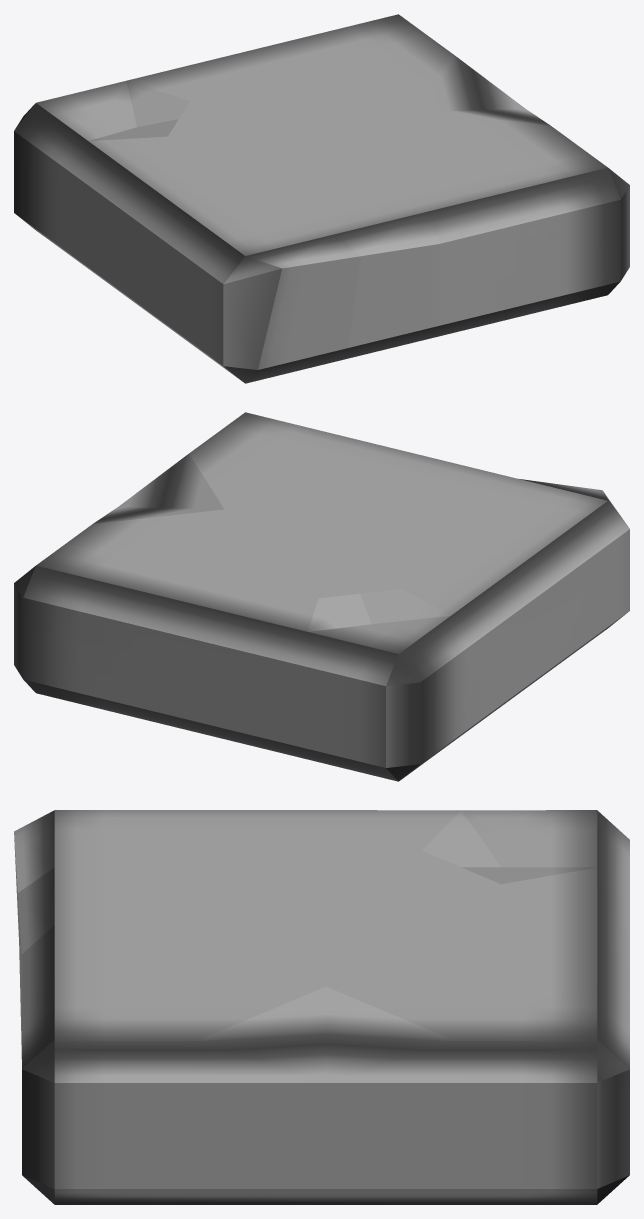
The model's file is SM_DungeonFloorPiece.fbx.
3 renders of one model, top to bottom at view 1: azimuth 30°, elevation 25°; view 2: azimuth 150°, elevation 25°; view 3: azimuth 270°, elevation 25°, orthographic. The views are drawn at different scales.
Visible parts, largest first — view 1: Cube.016; view 2: Cube.016; view 3: Cube.016.
Boxes of the visible parts, x1,y1,x2,y2 form: Cube.016: [14, 14, 629, 383]; Cube.016: [14, 412, 629, 781]; Cube.016: [14, 810, 629, 1204].
Size of the model in its own units: 40 by 12 by 40.52.
